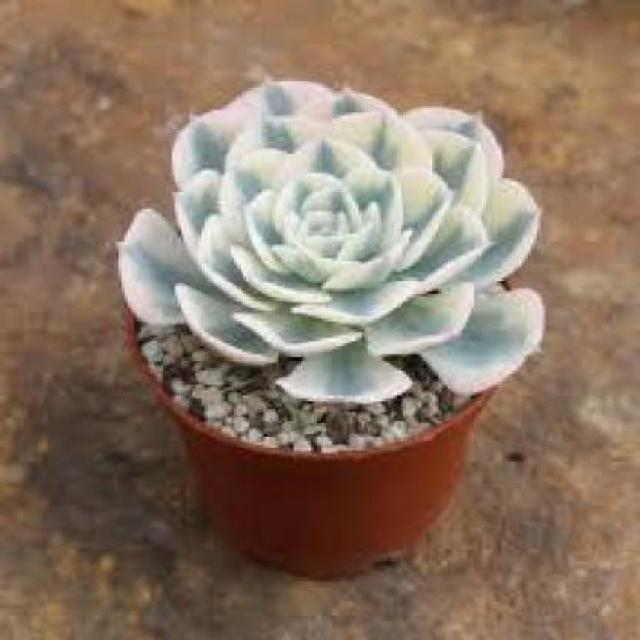flower: (114, 72, 552, 452)
